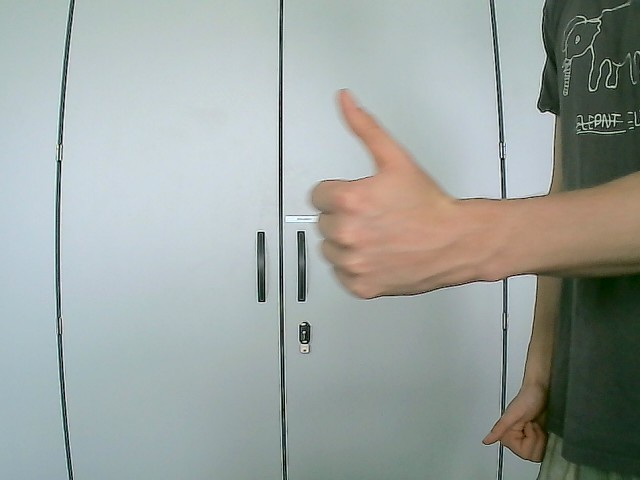up: (309, 87, 466, 301)
